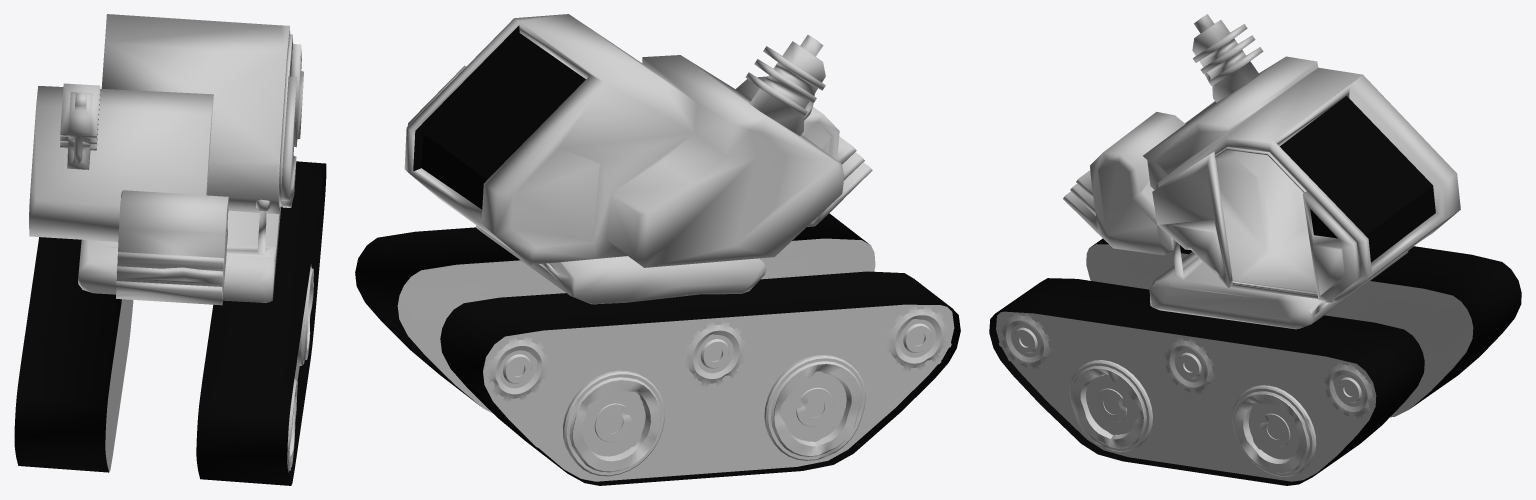
The model's file is PurpleCrane.fbx.
3 views of the same model, side by side, from view 1: azimuth 30°, elevation 25°; view 2: azimuth 150°, elevation 25°; view 3: azimuth 270°, elevation 25° (orthographic). The views are drawn at different scales.
Parts seen in each view (by area): view 1: Cube.019_Cube.027; view 2: Cube.019_Cube.027, Cube.019_Cube.015; view 3: Cube.019_Cube.027, Cube.019_Cube.015.
Boxes of the visible parts, <box> form: Cube.019_Cube.027: <box>14,14,326,485</box>; Cube.019_Cube.027: <box>355,14,960,485</box>; Cube.019_Cube.015: <box>413,25,585,209</box>; Cube.019_Cube.027: <box>989,14,1521,485</box>; Cube.019_Cube.015: <box>1280,96,1435,262</box>.
Size of the model in its own units: 783 by 660 by 868.
